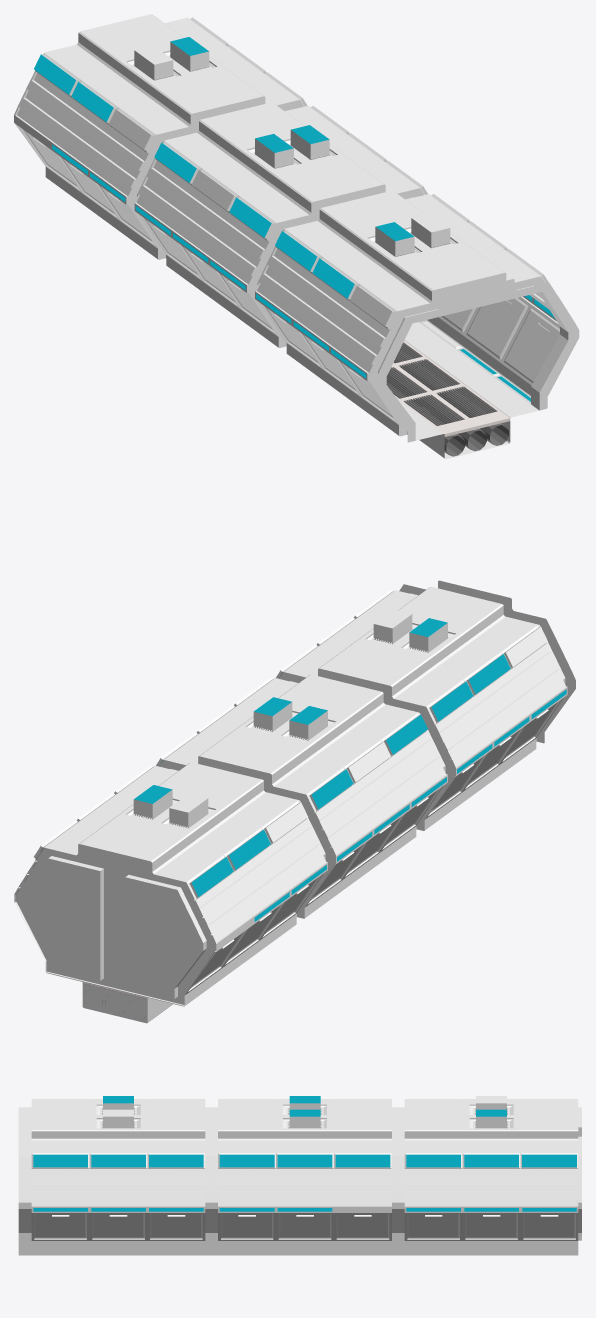
Rendered from space-walk-001.glb.
3 renders of one model, top to bottom at view 1: azimuth 30°, elevation 25°; view 2: azimuth 150°, elevation 25°; view 3: azimuth 270°, elevation 25°, orthographic. The views are drawn at different scales.
Parts seen in each view (by area): view 1: wall.003, wall.005, wall.004, pipe.000, lightpanel.000, loghtpanel.001, lightpanel.002; view 2: wall.005, wall.003, wall.004, gate, loghtpanel.001, lightpanel.000, lightpanel.002; view 3: wall.003, wall.004, wall.005, loghtpanel.001, lightpanel.000, lightpanel.002, gate.
Part boxes in pixels (bbox=[...]): wall.003: bbox=[255, 190, 579, 459]; wall.005: bbox=[14, 14, 307, 259]; wall.004: bbox=[134, 102, 427, 347]; pipe.000: bbox=[386, 340, 510, 456]; lightpanel.000: bbox=[256, 222, 554, 401]; loghtpanel.001: bbox=[135, 125, 329, 290]; lightpanel.002: bbox=[34, 37, 208, 201]; wall.005: bbox=[14, 756, 335, 1023]; wall.003: bbox=[276, 580, 575, 831]; wall.004: bbox=[156, 668, 455, 918]; gate: bbox=[14, 844, 217, 1023]; loghtpanel.001: bbox=[162, 697, 446, 861]; lightpanel.000: bbox=[409, 618, 566, 773]; lightpanel.002: bbox=[15, 785, 326, 921]; wall.003: bbox=[18, 1097, 205, 1255]; wall.004: bbox=[205, 1097, 391, 1255]; wall.005: bbox=[392, 1096, 578, 1255]; loghtpanel.001: bbox=[219, 1096, 390, 1211]; lightpanel.000: bbox=[33, 1096, 203, 1211]; lightpanel.002: bbox=[406, 1109, 576, 1211]; gate: bbox=[576, 1107, 581, 1249].
Bounding box in the file's own units: 36.81 × 36.81 × 111.
